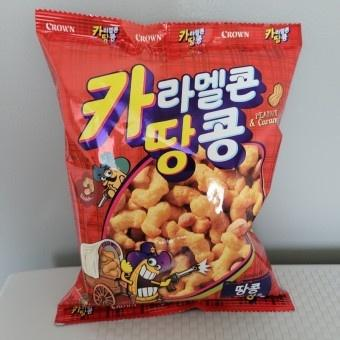snack: (34, 7, 304, 327)
